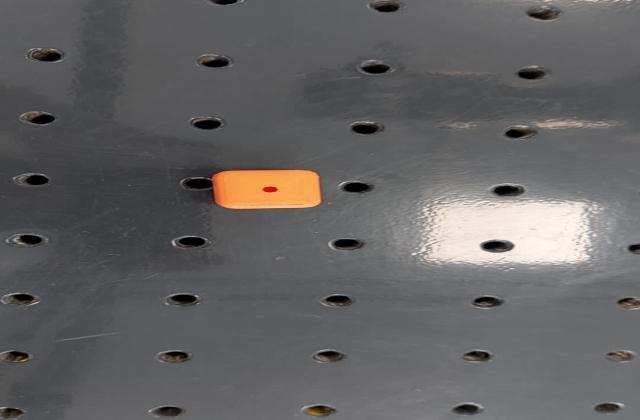cube: (205, 168, 328, 210)
